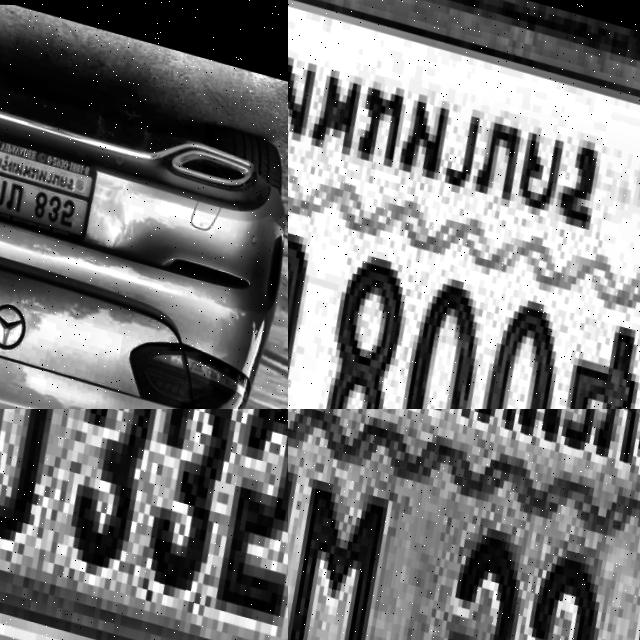license-plate: (288, 0, 640, 409), (288, 409, 640, 640), (0, 409, 288, 640), (0, 127, 100, 242)
